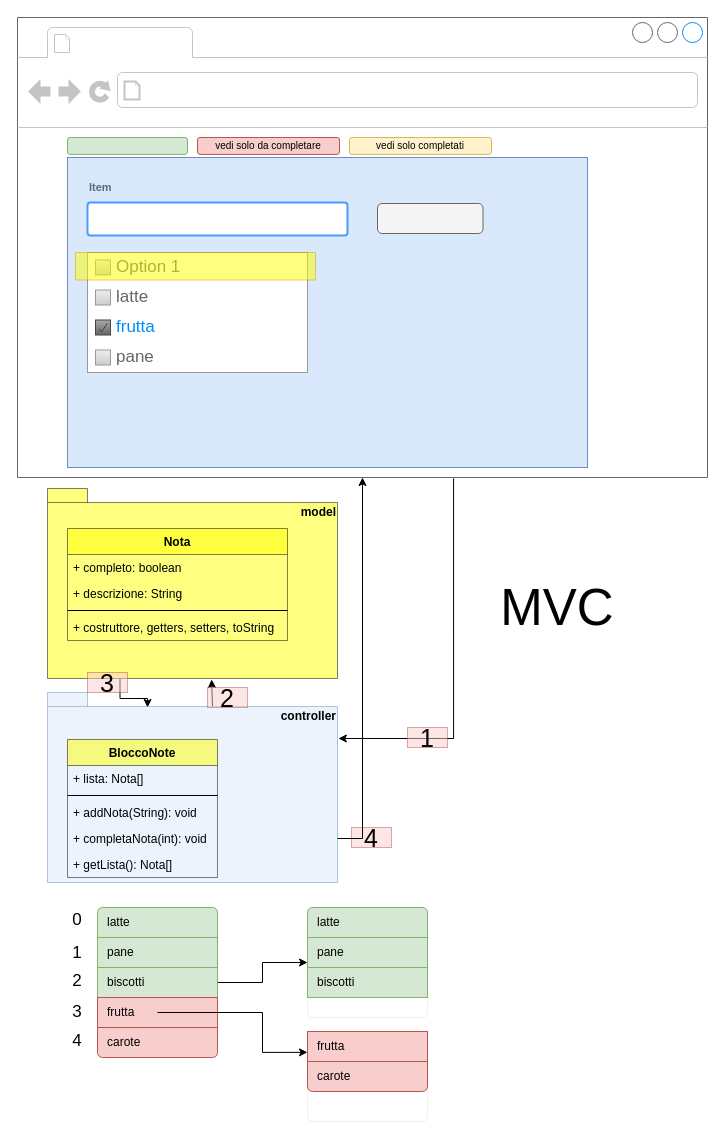
The diagram is 725 pixels wide and 1139 high, and some of its shapes have lost their labels. The centre of each missing label's shape, as x and y in pixels:
Aggiungi: (429,218)
cosa devi comprare?: (217,218)
https://www.draw.io: (272,90)
Page 1: (132,42)
vedi tutti: (127,145)
